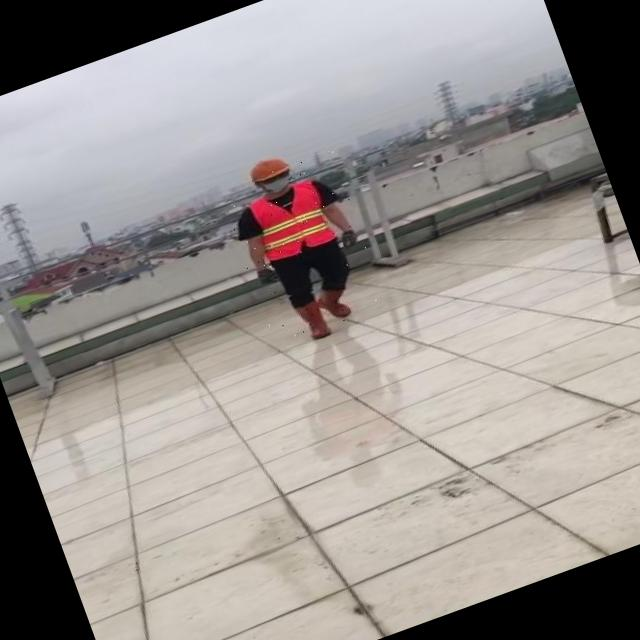hard_hat: (245, 149, 294, 186)
safety_vest: (245, 177, 340, 266)
vehicle: (212, 134, 392, 354)
work_boots: (312, 279, 356, 324), (290, 300, 330, 346)
